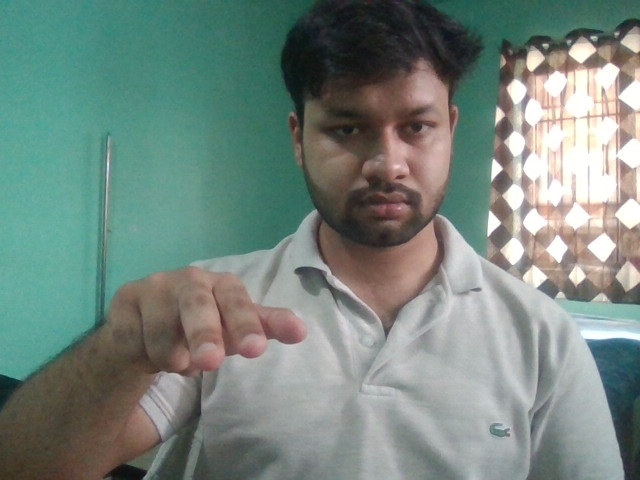No: (105, 265, 310, 381)
